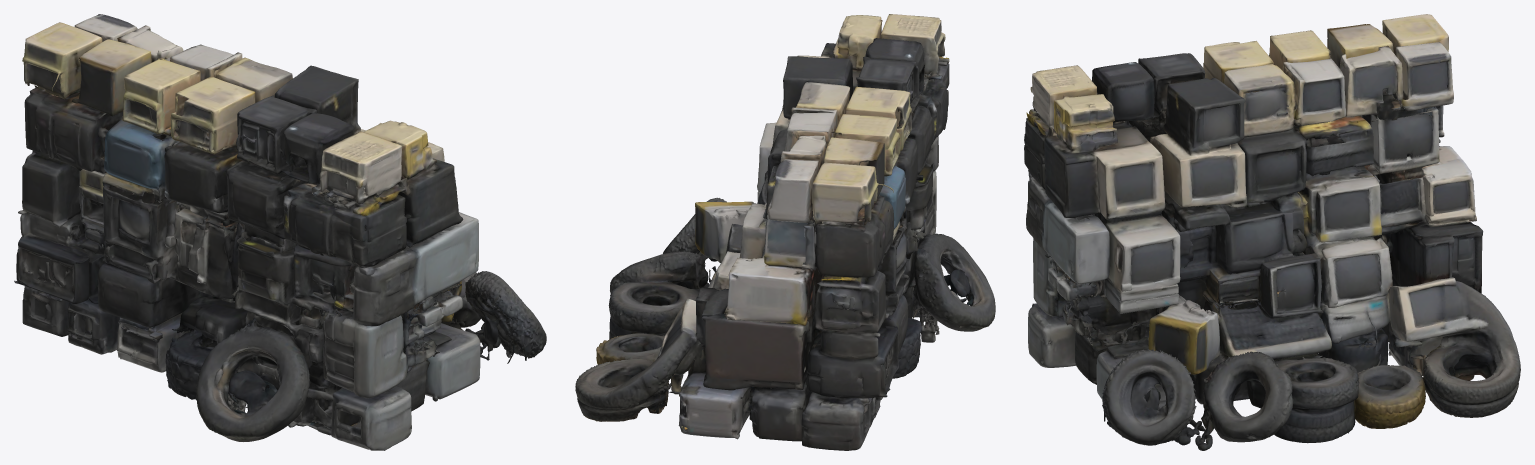
The model's file is silicon_and_rubber_-_landfill.glb.
3 renders of one model, left to right at view 1: azimuth 30°, elevation 25°; view 2: azimuth 150°, elevation 25°; view 3: azimuth 270°, elevation 25°, orthographic. The views are drawn at different scales.
Parts seen in each view (by area): view 1: Object_6, Object_8, Object_7, Object_5, Object_4, Object_9, Object_10; view 2: Object_5, Object_4, Object_7, Object_6, Object_8, Object_9, Object_10; view 3: Object_5, Object_6, Object_4, Object_7, Object_8, Object_9, Object_10.
Boxes of the visible parts, x1,y1,x2,y2 form: Object_6: (17,14,543,439); Object_8: (20,18,546,435); Object_7: (18,22,534,446); Object_5: (14,25,546,441); Object_4: (18,44,540,450); Object_9: (19,15,545,447); Object_10: (22,15,543,449); Object_5: (596,16,995,448); Object_4: (575,14,974,441); Object_7: (592,19,976,444); Object_6: (614,15,994,450); Object_8: (583,23,995,441); Object_9: (580,14,993,450); Object_10: (579,19,986,439); Object_5: (1028,34,1493,445); Object_6: (1024,29,1504,445); Object_4: (1026,37,1519,442); Object_7: (1026,20,1520,450); Object_8: (1024,14,1518,444); Object_9: (1025,22,1517,445); Object_10: (1024,38,1514,444).
Bounding box in the file's own units: 1.88 × 1.38 × 2.24.
Materials: 1 (1 with a texture image).
